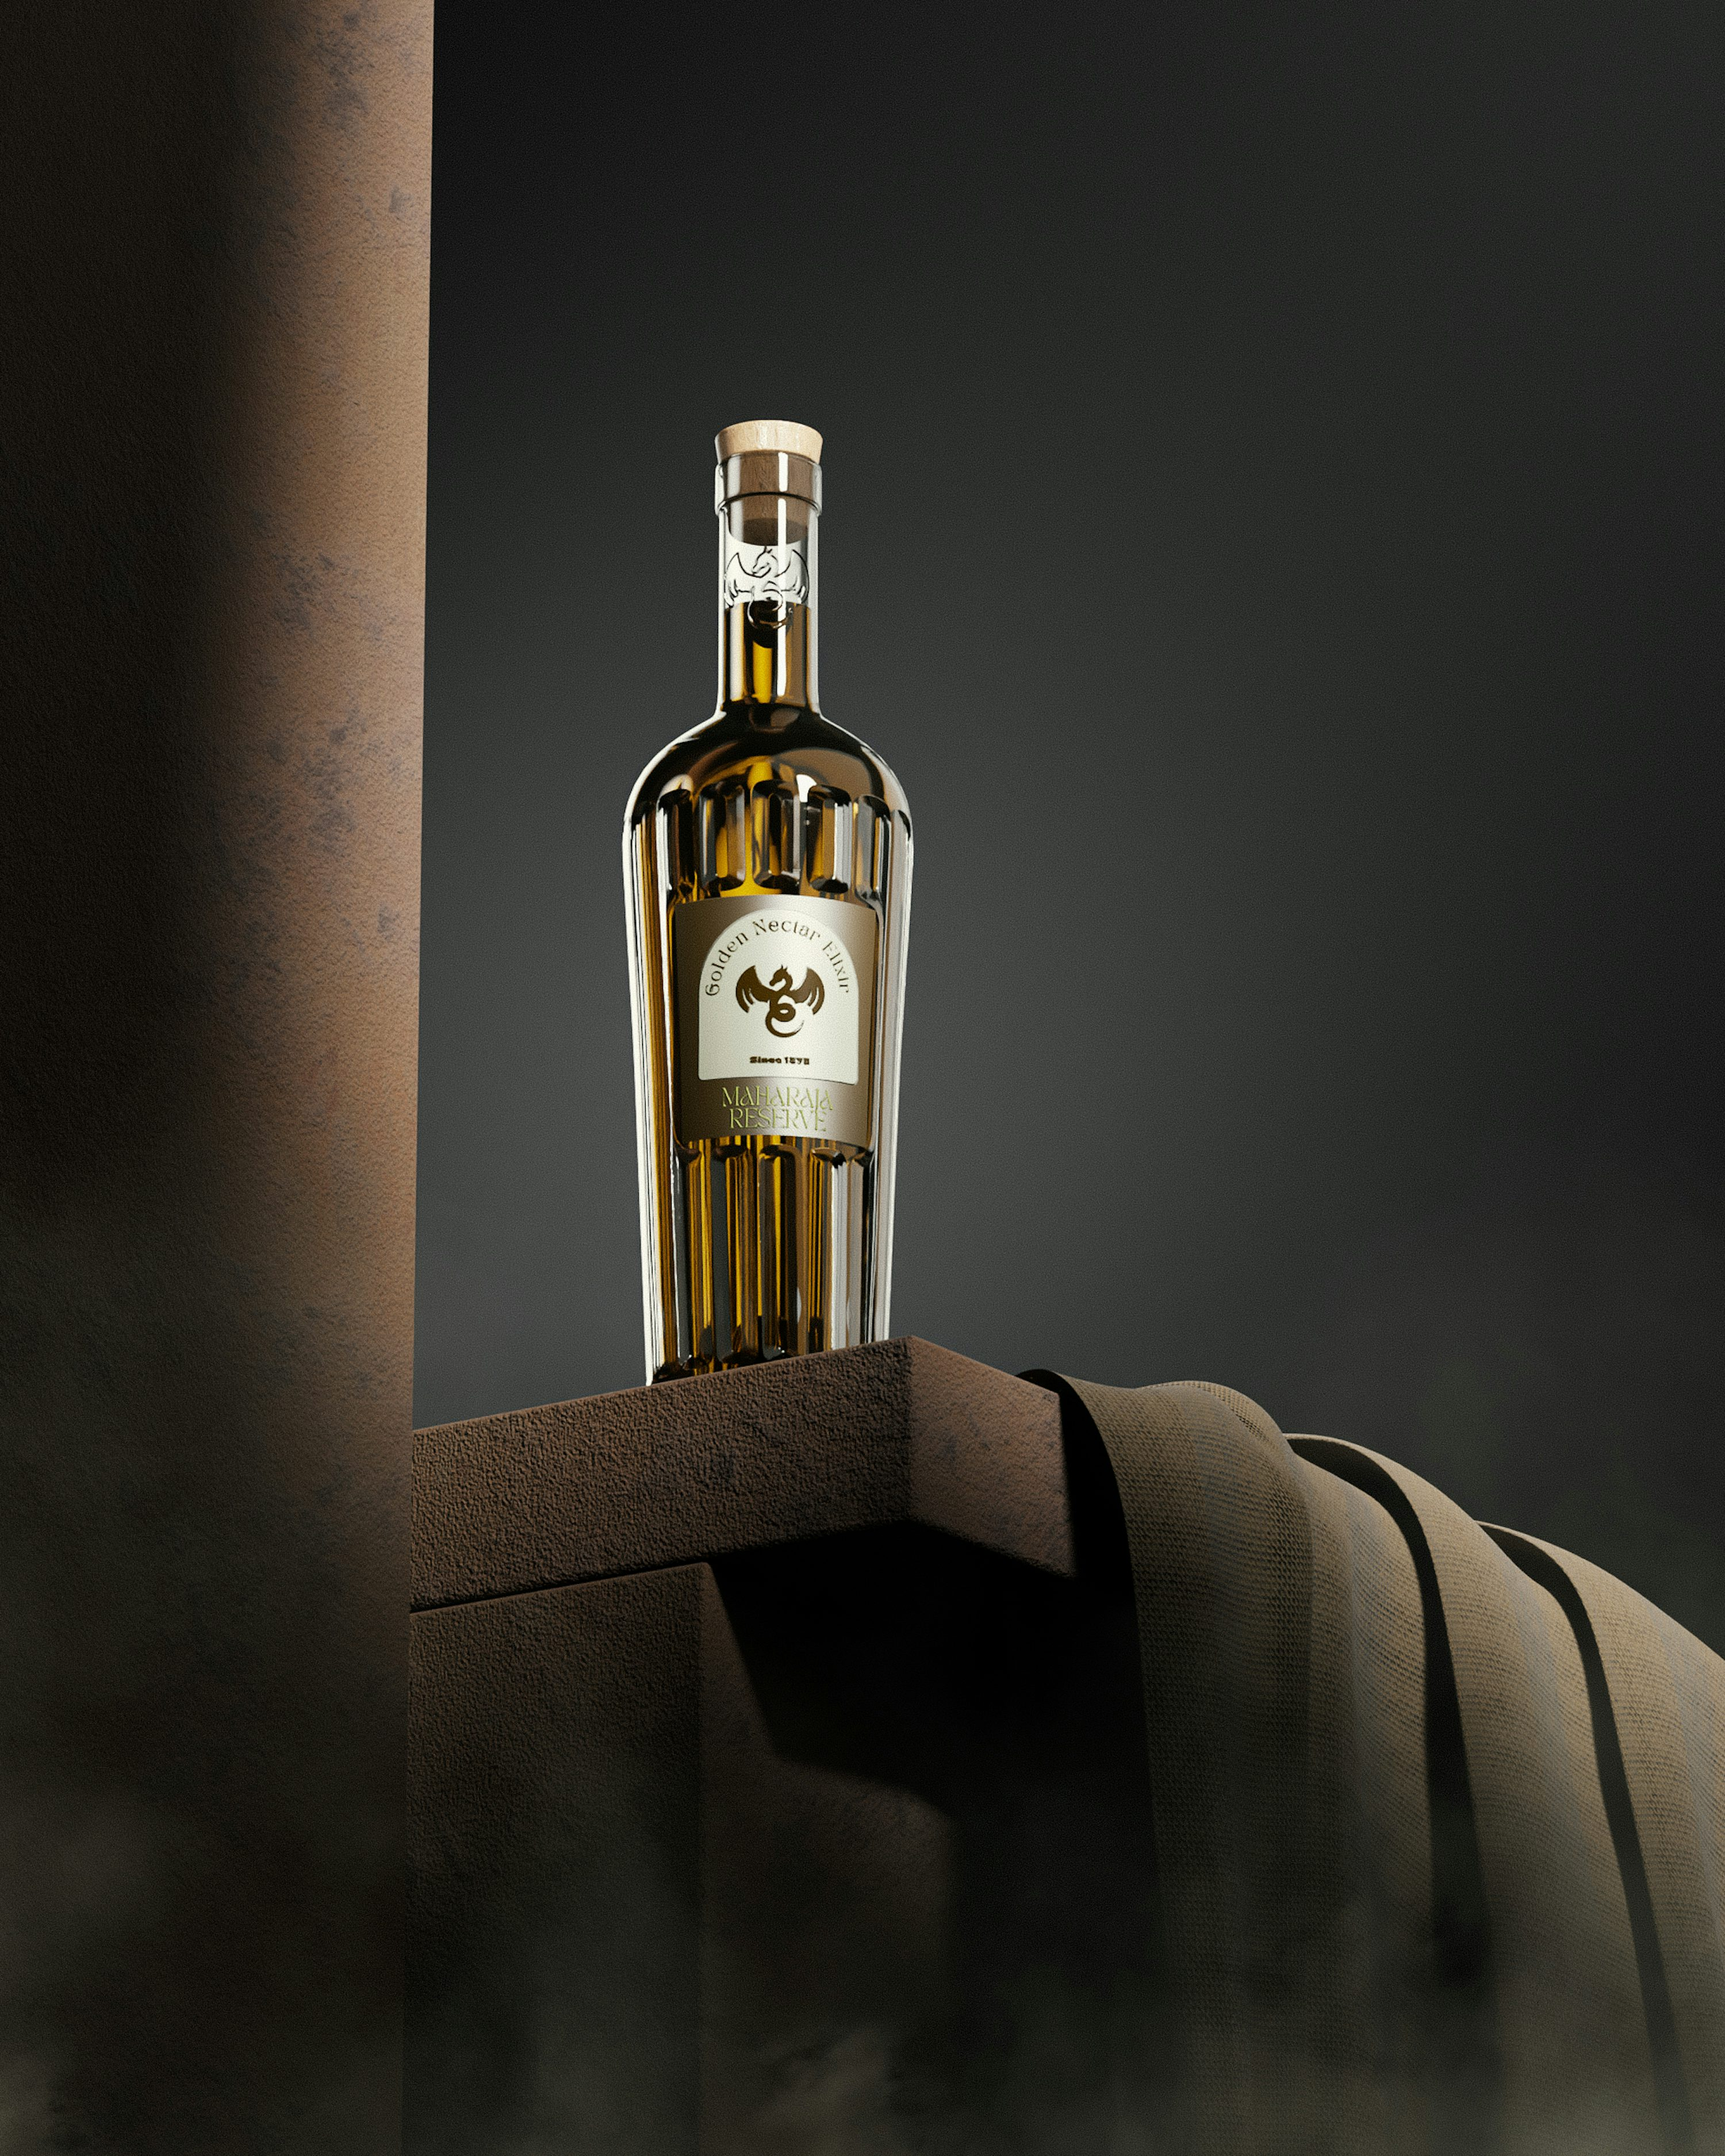glass_bottle: (565, 378, 977, 1389)
